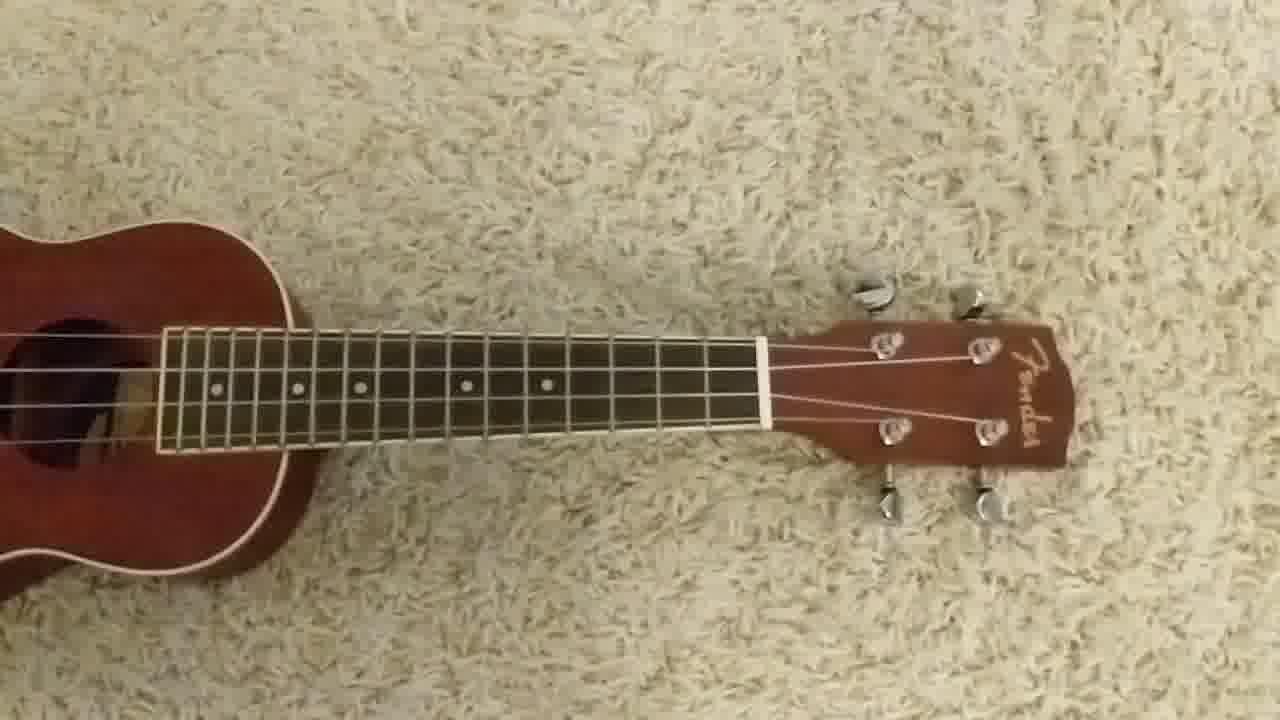Body: (1, 216, 323, 600)
Headstock: (772, 273, 1083, 528)
